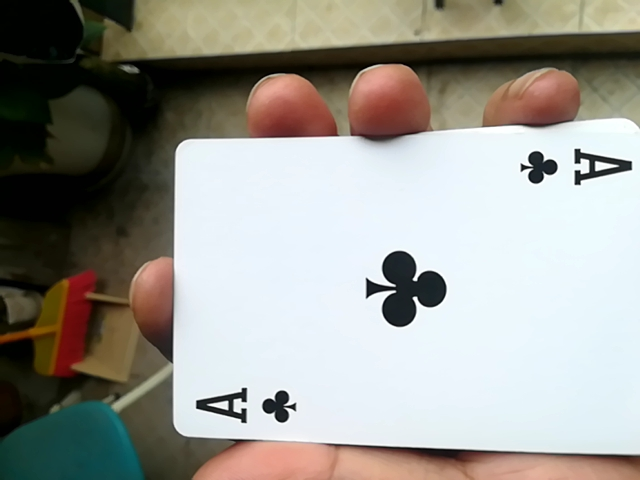mh a: (156, 130, 634, 467)
